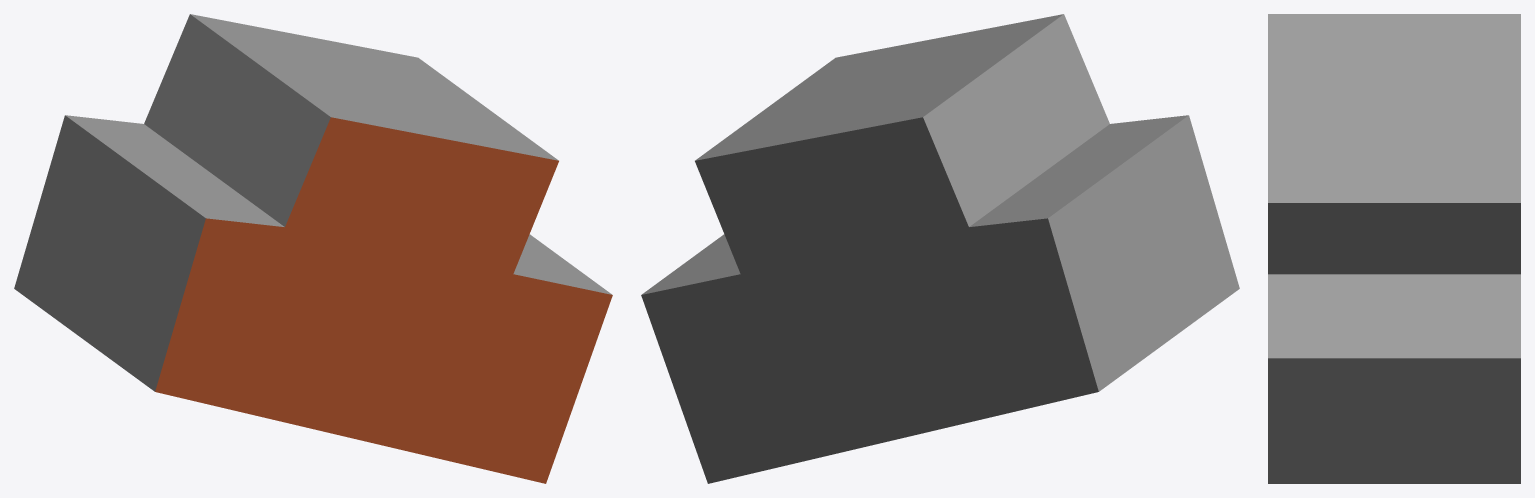
File: construction_1592_assumed_A_Casa_h6m.obj
3 renders of one model, left to right at view 1: azimuth 30°, elevation 25°; view 2: azimuth 150°, elevation 25°; view 3: azimuth 270°, elevation 25°, orthographic. The views are drawn at different scales.
Visible parts, largest first — view 1: construction_1592_assumed_A_Casa; view 2: construction_1592_assumed_A_Casa; view 3: construction_1592_assumed_A_Casa.
Boxes of the visible parts, box(x1,y1,x2,y2) form: construction_1592_assumed_A_Casa: box(14, 14, 612, 483); construction_1592_assumed_A_Casa: box(641, 14, 1239, 483); construction_1592_assumed_A_Casa: box(1268, 14, 1520, 483).
Bounding box in the file's own units: 11.25 × 9.84 × 6.
